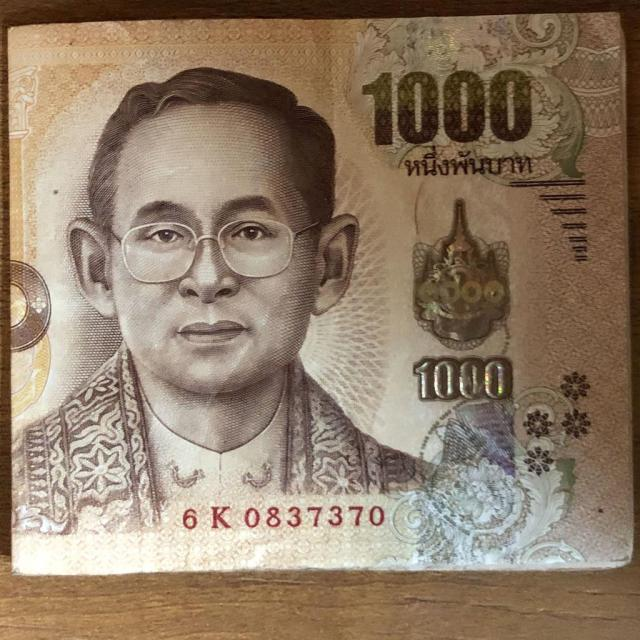THAI1000: (1, 1, 639, 578)
